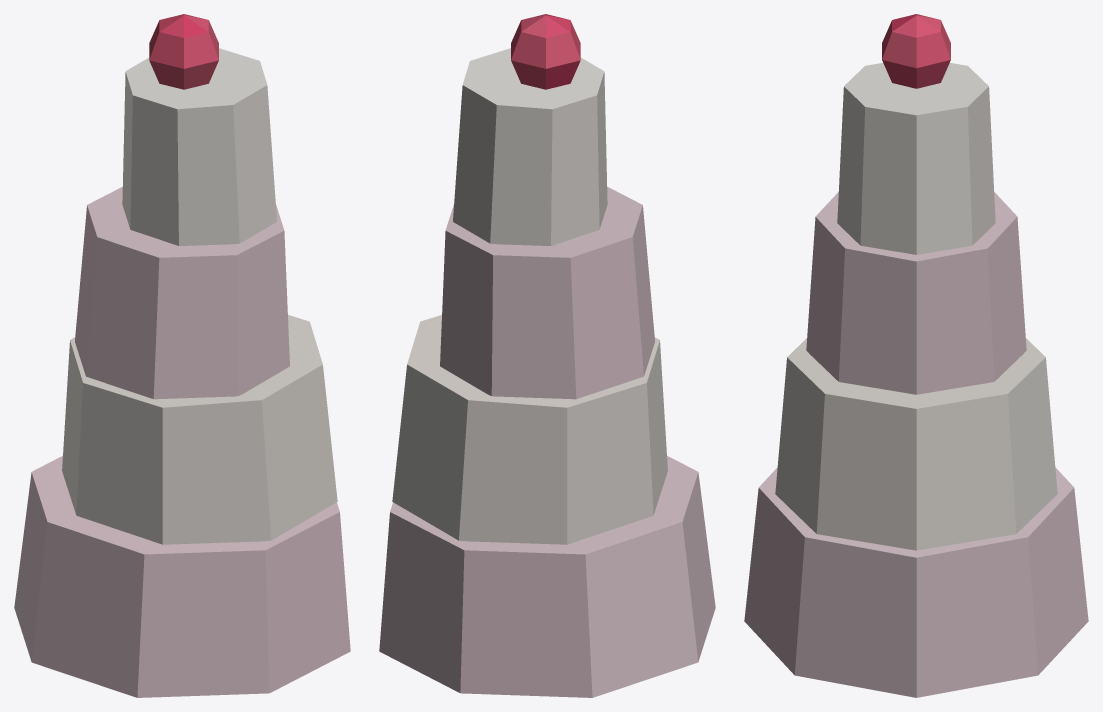
Rendered from unstable.glb.
3 renders of one model, left to right at view 1: azimuth 30°, elevation 25°; view 2: azimuth 150°, elevation 25°; view 3: azimuth 270°, elevation 25°, orthographic.
Parts seen in each view (by area): view 1: unstable2; view 2: unstable2; view 3: unstable2.
Boxes of the visible parts, box(x1,y1,x2,y2) form: unstable2: box(14, 14, 350, 697); unstable2: box(379, 14, 715, 697); unstable2: box(744, 14, 1088, 697).
Size of the model in its own units: 0.4319 by 0.8454 by 0.432.
